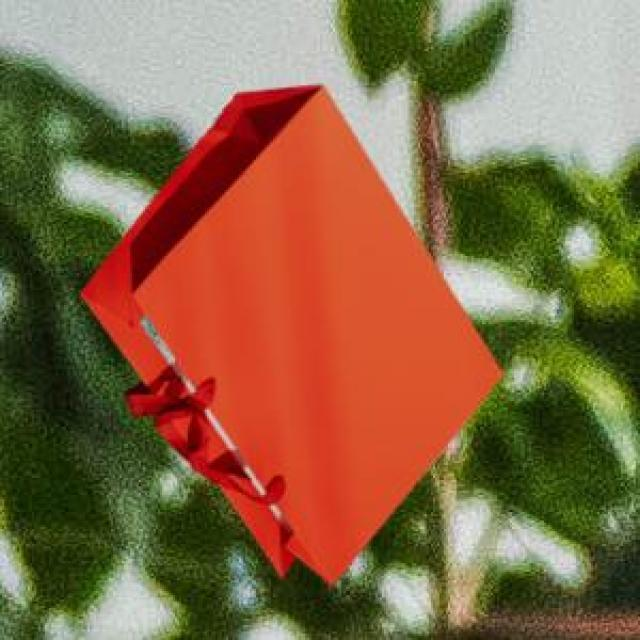paper: (77, 81, 497, 580)
